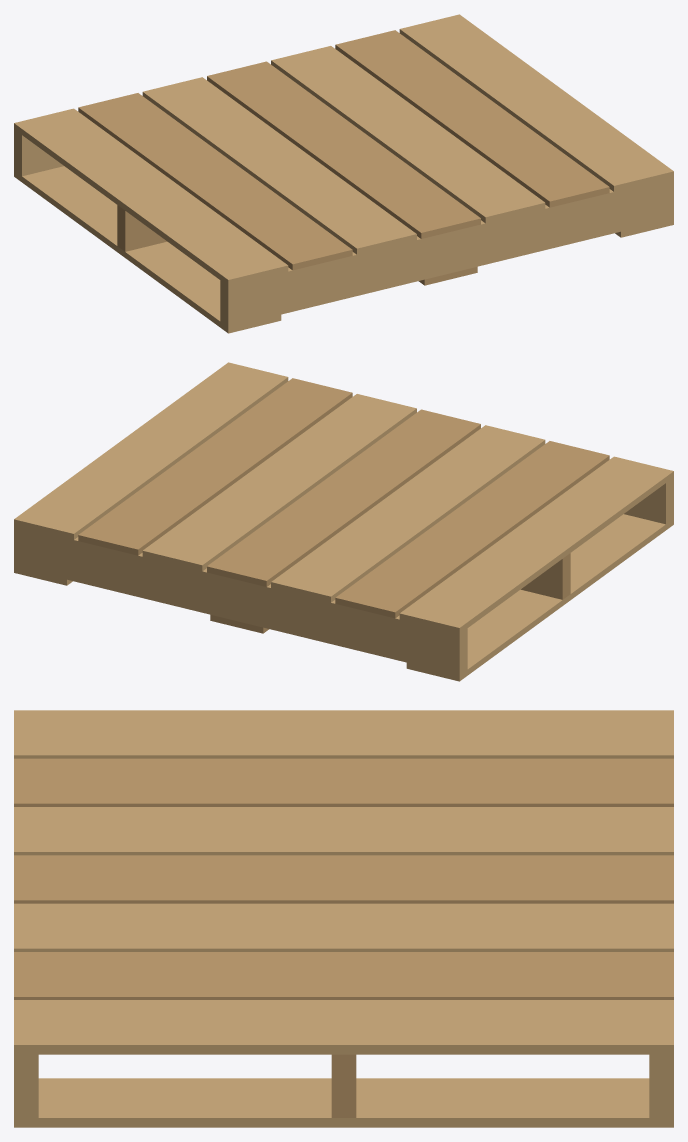
Rendered from pallet-gma.glb.
3 renders of one model, top to bottom at view 1: azimuth 30°, elevation 25°; view 2: azimuth 150°, elevation 25°; view 3: azimuth 270°, elevation 25°, orthographic. The views are drawn at different scales.
Parts seen in each view (by area): view 1: pallet-gma; view 2: pallet-gma; view 3: pallet-gma.
Part boxes in pixels (box(x1,y1,x2,y2)): pallet-gma: box(14, 14, 673, 333); pallet-gma: box(14, 362, 673, 681); pallet-gma: box(14, 710, 673, 1127).
Size of the model in its own units: 1.22 by 0.14 by 1.02.
